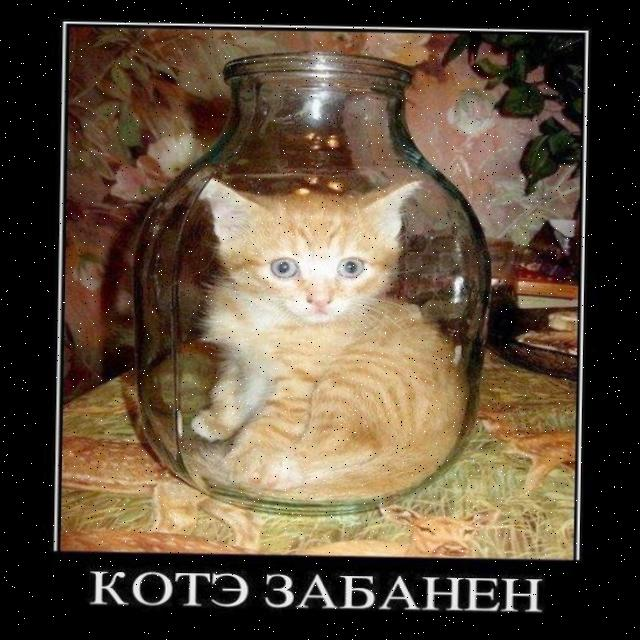cat: (170, 153, 472, 498)
